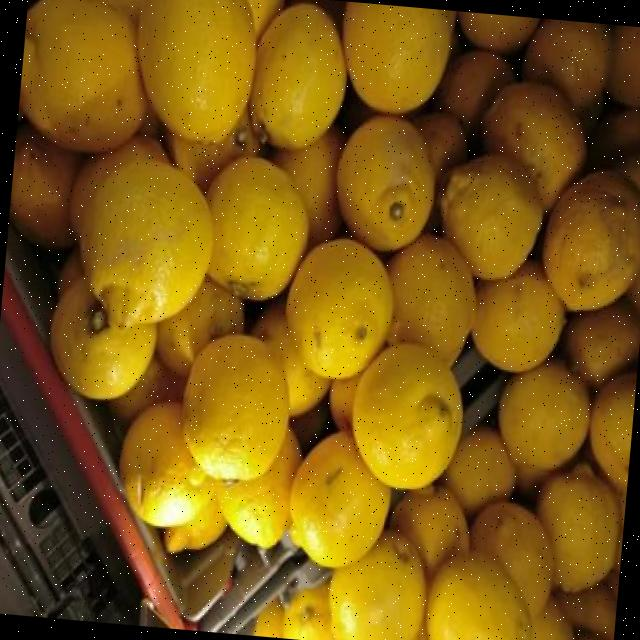lemon: (69, 138, 210, 328), (19, 0, 146, 152), (136, 0, 256, 143), (351, 343, 462, 488), (181, 334, 288, 480), (285, 238, 392, 378), (206, 157, 307, 299), (250, 3, 345, 149), (541, 171, 640, 309), (289, 431, 389, 567), (480, 81, 584, 210), (336, 115, 433, 251), (439, 153, 542, 280), (49, 277, 155, 399), (342, 1, 449, 113), (118, 403, 213, 526), (387, 234, 474, 364), (328, 532, 425, 640), (471, 262, 563, 371), (216, 429, 300, 548), (498, 362, 589, 470), (536, 473, 619, 591), (469, 503, 553, 617), (8, 125, 82, 248), (250, 302, 330, 415), (425, 555, 530, 640), (272, 126, 343, 245), (155, 278, 241, 376), (522, 18, 609, 108), (166, 110, 259, 192), (389, 488, 468, 575), (564, 299, 640, 387), (442, 425, 515, 515), (433, 51, 513, 128), (589, 373, 636, 490), (107, 357, 184, 421), (162, 494, 226, 553), (555, 583, 617, 640), (413, 112, 465, 178), (457, 11, 538, 52), (588, 108, 640, 166), (282, 582, 333, 640), (606, 26, 640, 106), (530, 600, 572, 640), (244, 0, 282, 37), (252, 598, 283, 637), (98, 0, 140, 18)
